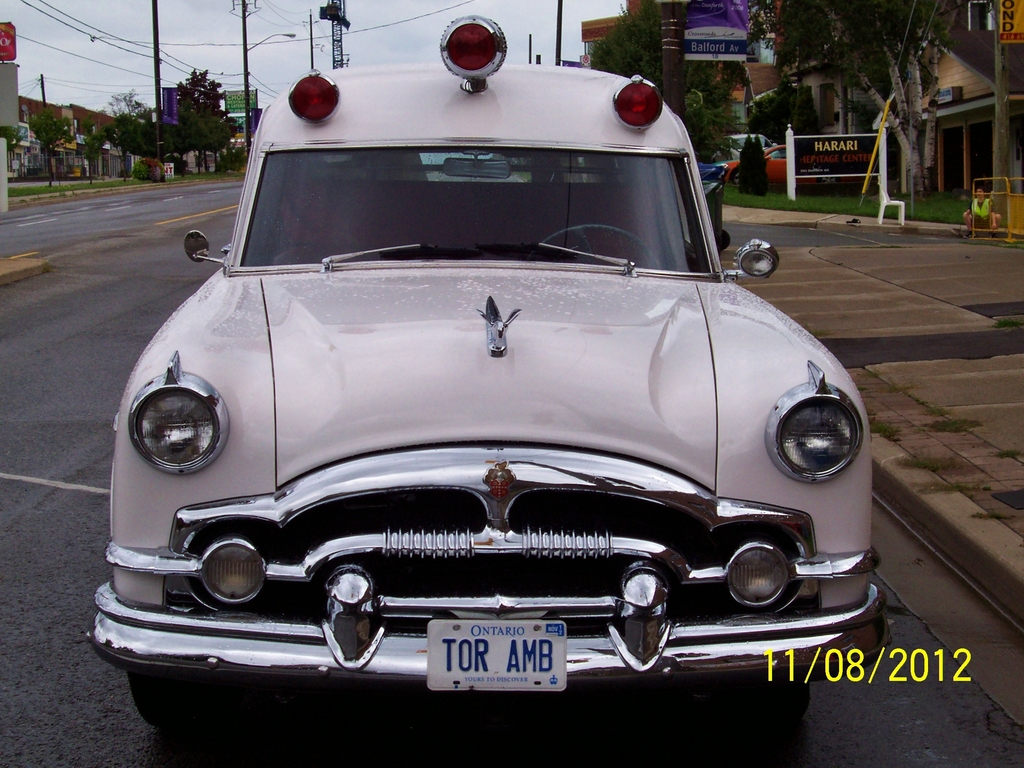Tree: (749, 0, 962, 189), (591, 0, 742, 165), (169, 67, 241, 174), (745, 78, 824, 148), (29, 99, 72, 184), (101, 111, 153, 180), (74, 116, 99, 180), (103, 92, 147, 113)
